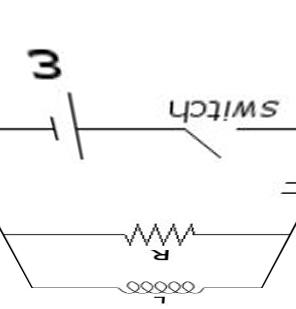inductor: (105, 268, 216, 296)
